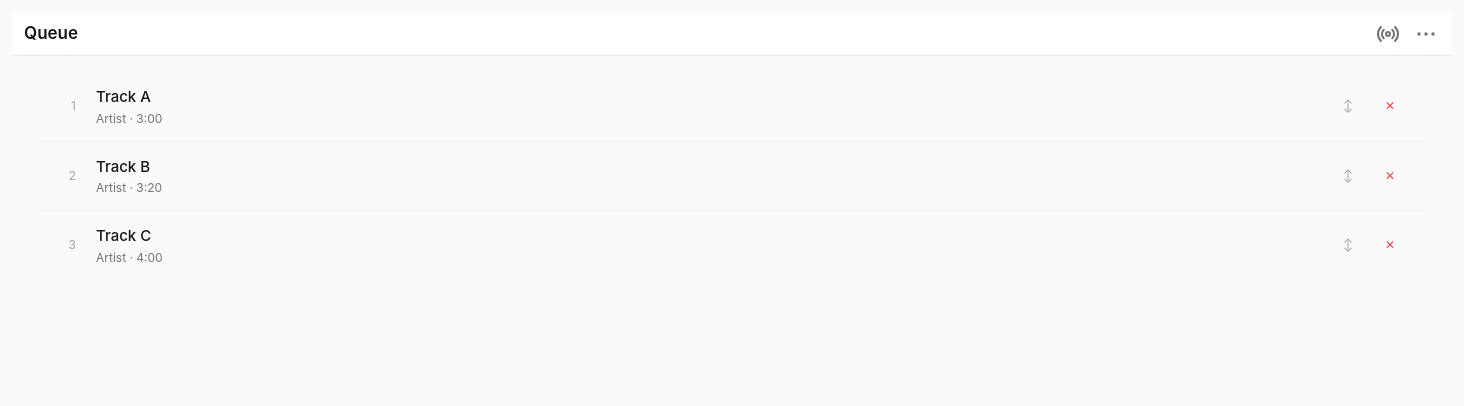
QueueView › select mode › clicking the toggle again exits select mode
Click the button with test id "queue-menu" at {"x": 1426, "y": 34}, box [1408,16,1444,52]
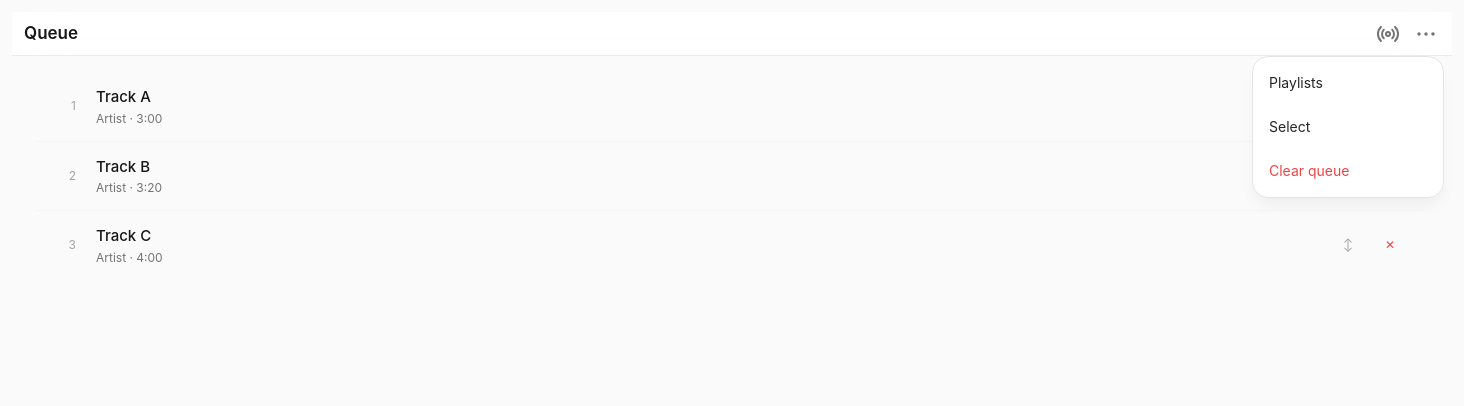
Click the menu item with test id "queue-select-mode-toggle" at {"x": 1348, "y": 126}, box [1257,104,1439,148]
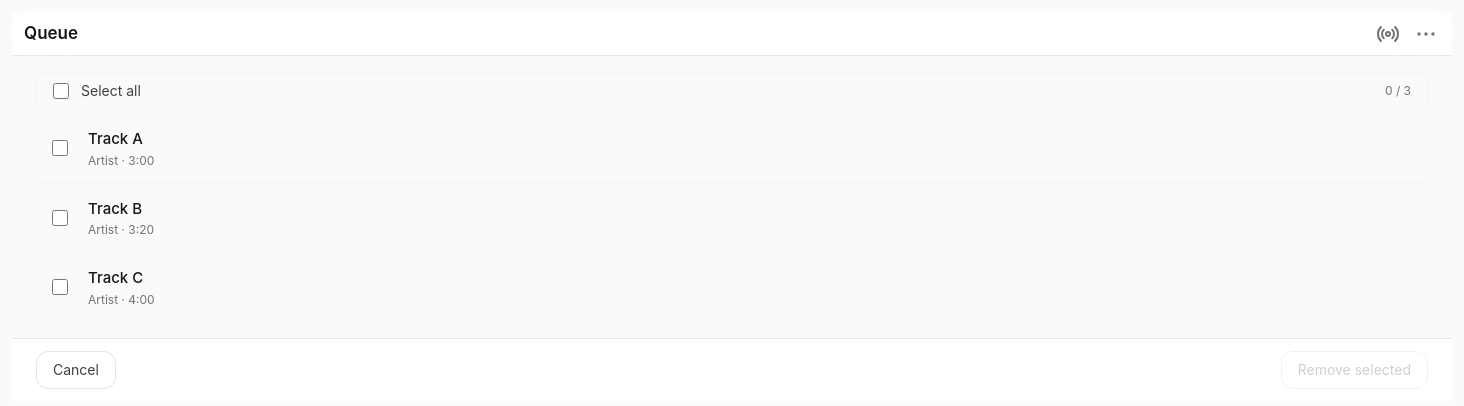
Click the button with test id "queue-menu" at {"x": 1426, "y": 34}, box [1408,16,1444,52]
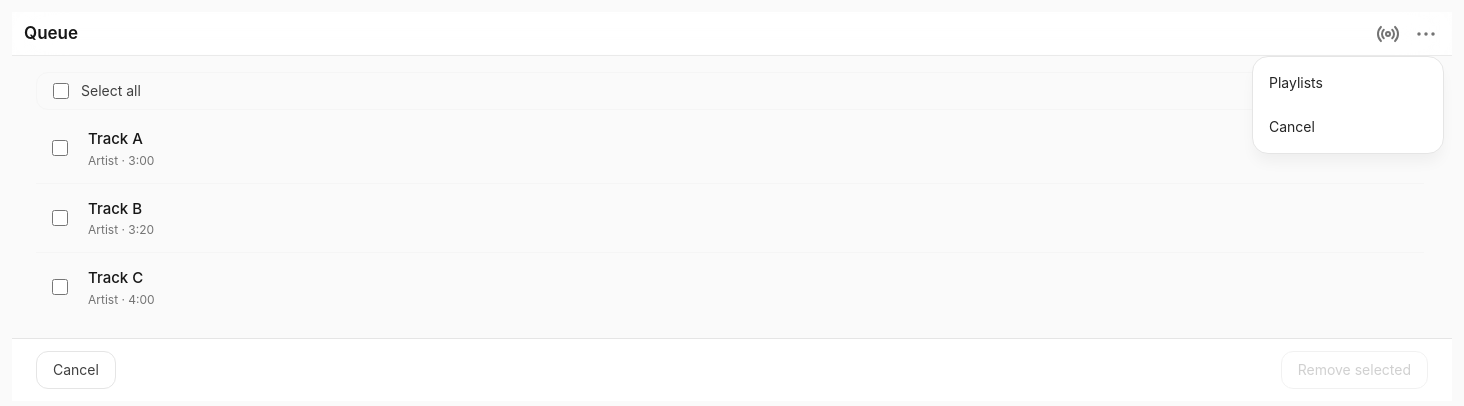
Click the menu item with test id "queue-select-mode-toggle" at {"x": 1348, "y": 126}, box [1257,104,1439,148]
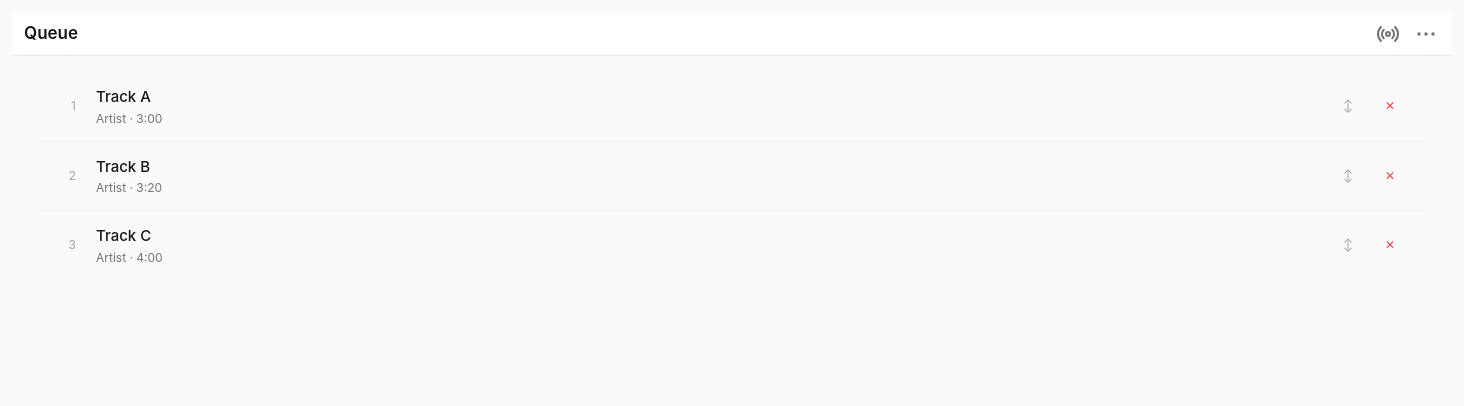
Result: the number of buttons with test id "queue-track-reorder" is 3 at [1330,88,1366,124]; [1330,158,1366,194]; [1330,227,1366,263]
Result: the number of buttons with test id "queue-track-remove" is 3 at [1372,88,1408,124]; [1372,158,1408,194]; [1372,227,1408,263]
